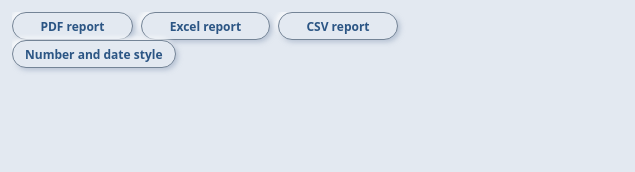
Test case: ReportDownload › names the format that failed, and the other one still works
The image size is (635, 172).
Click the button "Excel report". click: click(205, 26)
box: [141,12,270,40]
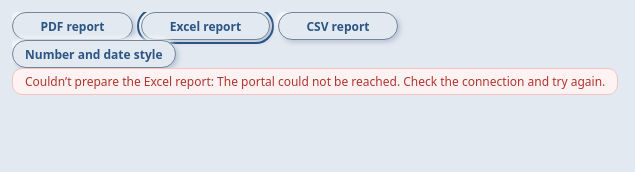
Expected: the message shows "Couldn’t prepare the Excel report: The portal could not be reached. Check the connection and try again.", [25,73,605,90]
Click the button "PDF report". click: click(72, 26)
box: [12,12,133,40]
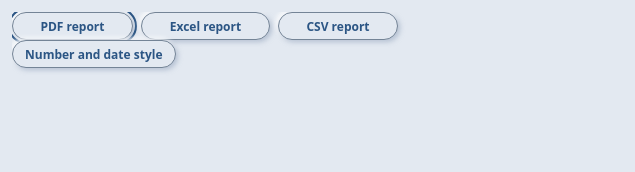
Expected: the message is gone
